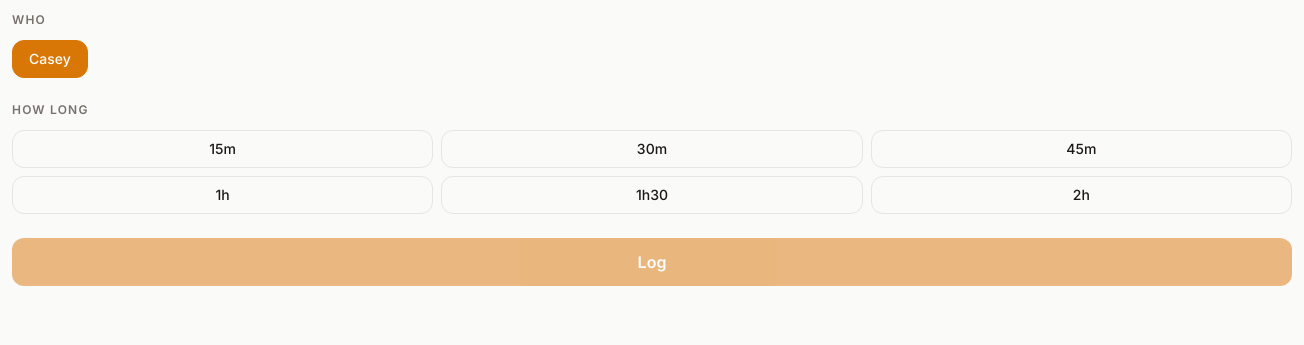
Scenario: CustomLogForm › shows the error message after a failed submit
Click the button "30m" at (652, 149), box x1=441 y1=130 x2=863 y2=168
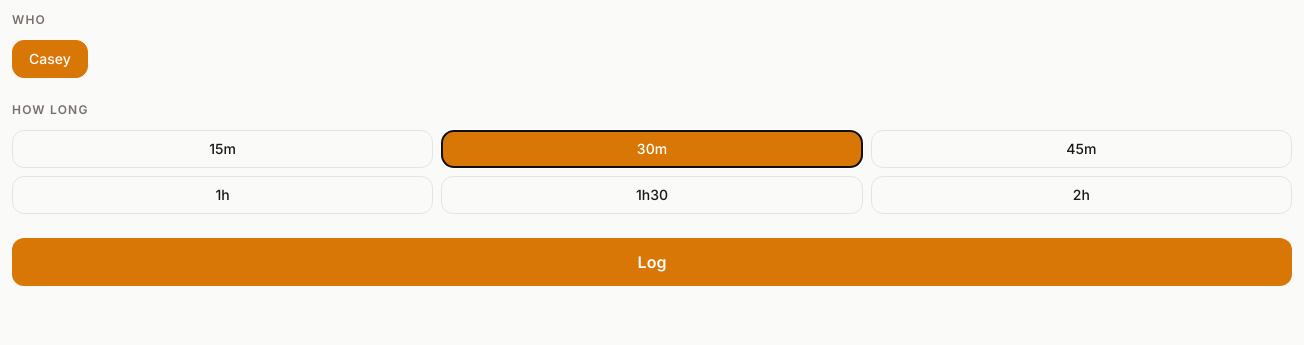
Click the button "Log" at (652, 262), box x1=12 y1=238 x2=1292 y2=286
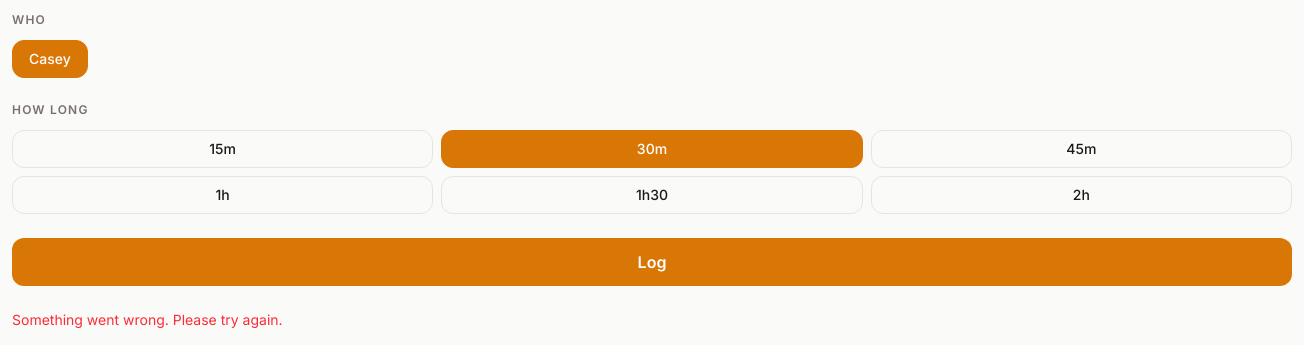
Now the text "Something went wrong. Please try again." is shown, box x1=12 y1=311 x2=283 y2=328
